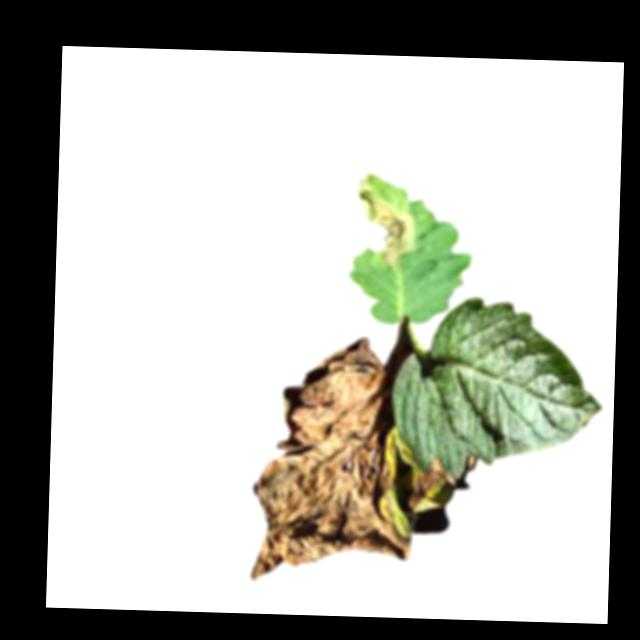Late_blight: (248, 335, 417, 587), (354, 171, 420, 270), (413, 456, 458, 513)
healthy: (391, 294, 606, 482)
